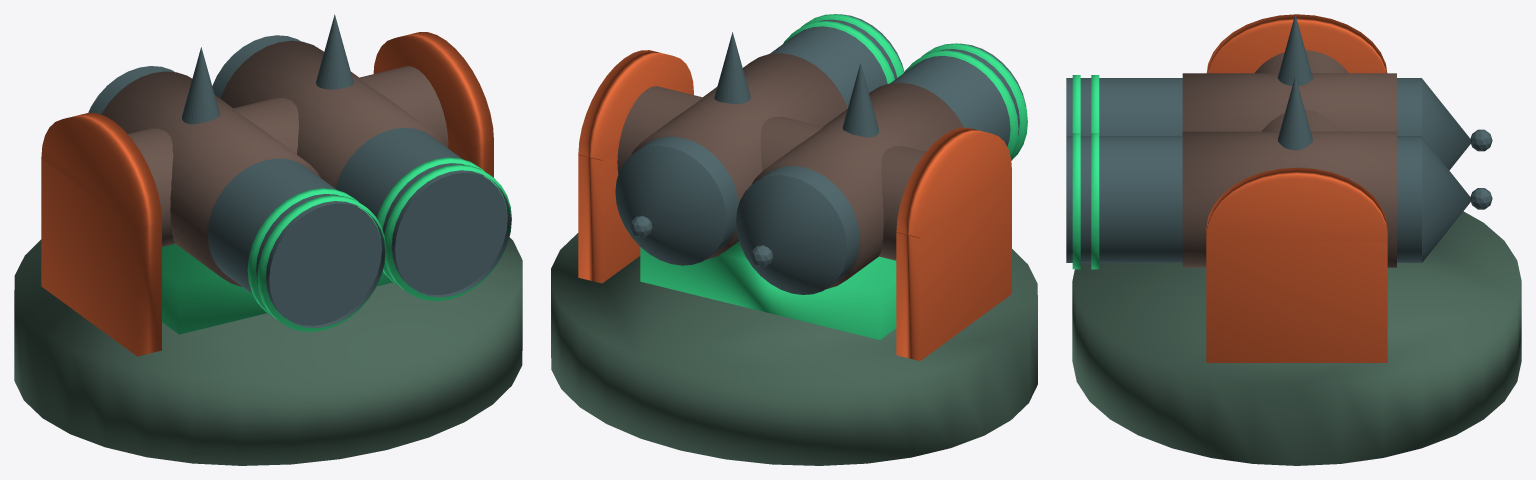
Rendered from twer0_1.fbx.
3 views of the same model, side by side, from view 1: azimuth 30°, elevation 25°; view 2: azimuth 150°, elevation 25°; view 3: azimuth 270°, elevation 25° (orthographic). The views are drawn at different scales.
Parts seen in each view (by area): view 1: Cylinder.003; view 2: Cylinder.003; view 3: Cylinder.003.
Part boxes in pixels (x1=…): Cylinder.003: x1=14, y1=14, x2=522, y2=465; Cylinder.003: x1=551, y1=14, x2=1037, y2=465; Cylinder.003: x1=1066, y1=14, x2=1521, y2=465.
Bounding box in the file's own units: 218 × 154 × 201.
